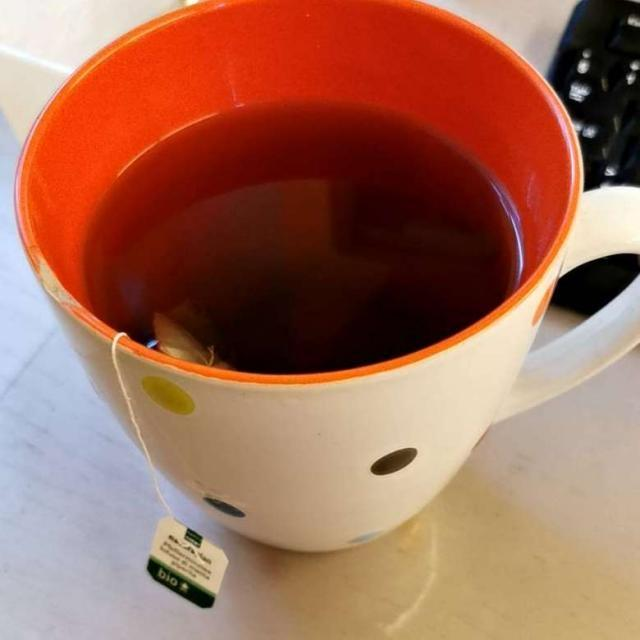tea: (93, 106, 519, 368)
